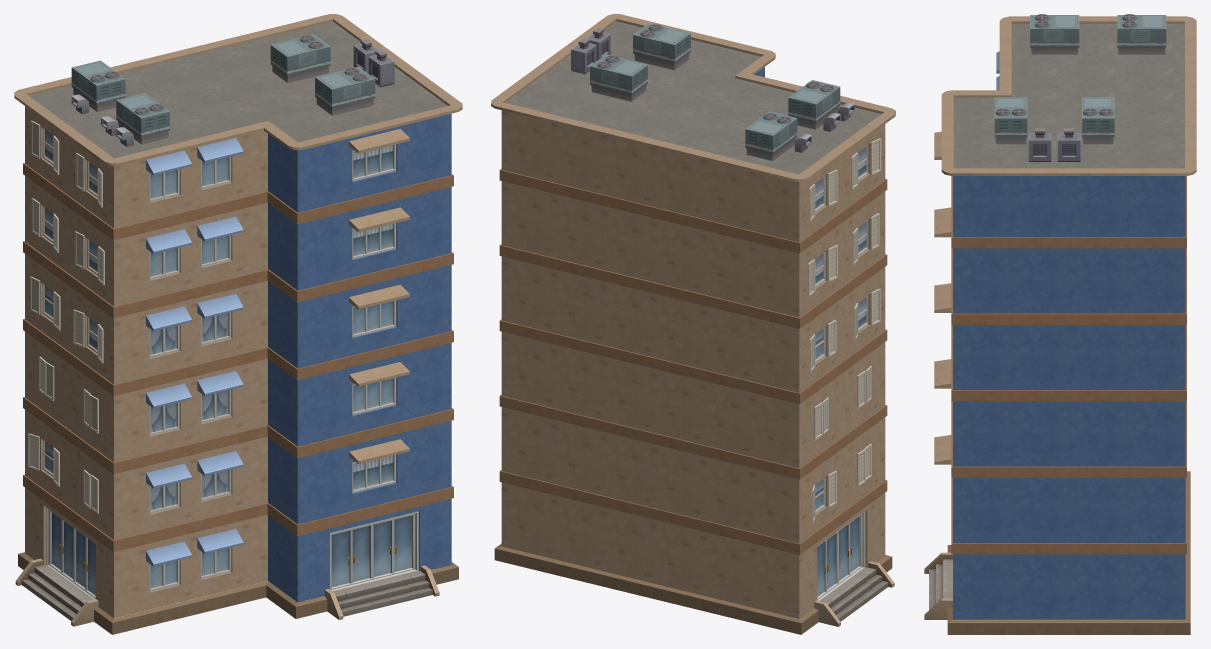
Rendered from Building_10.glb.
3 views of the same model, side by side, from view 1: azimuth 30°, elevation 25°; view 2: azimuth 150°, elevation 25°; view 3: azimuth 270°, elevation 25° (orthographic). The views are drawn at different scales.
Parts seen in each view (by area): view 1: Building_10_Roof_1; view 2: Building_10_Roof_1; view 3: Building_10_Roof_1.
Boxes of the visible parts, x1=… form: Building_10_Roof_1: x1=14, y1=14, x2=462, y2=634; Building_10_Roof_1: x1=491, y1=14, x2=895, y2=634; Building_10_Roof_1: x1=924, y1=14, x2=1196, y2=634.
Bounding box in the file's own units: 13.36 × 18.6 × 9.36.
Materials: 12 (12 with a texture image).
